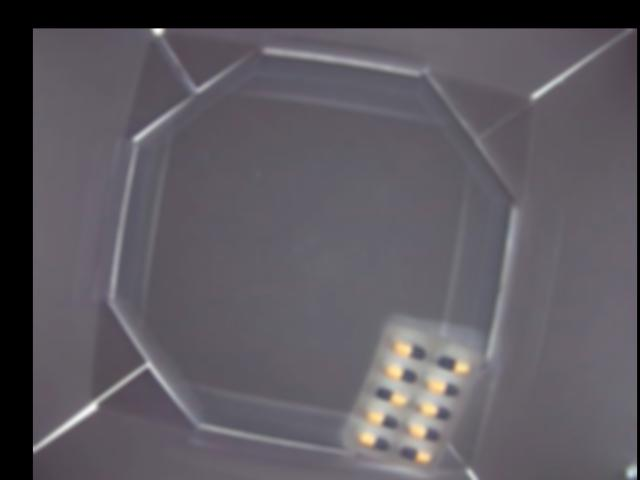Medicine: (341, 322, 483, 470)
